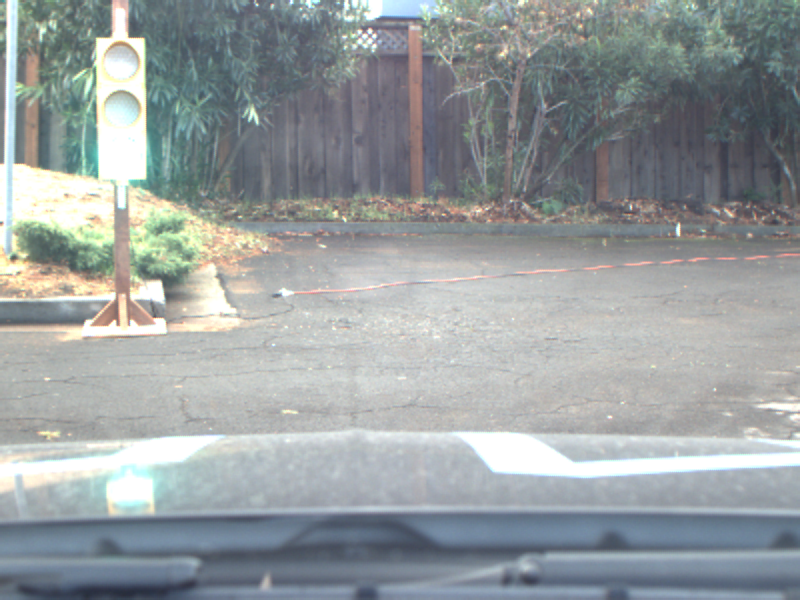Green: (96, 37, 147, 180)
